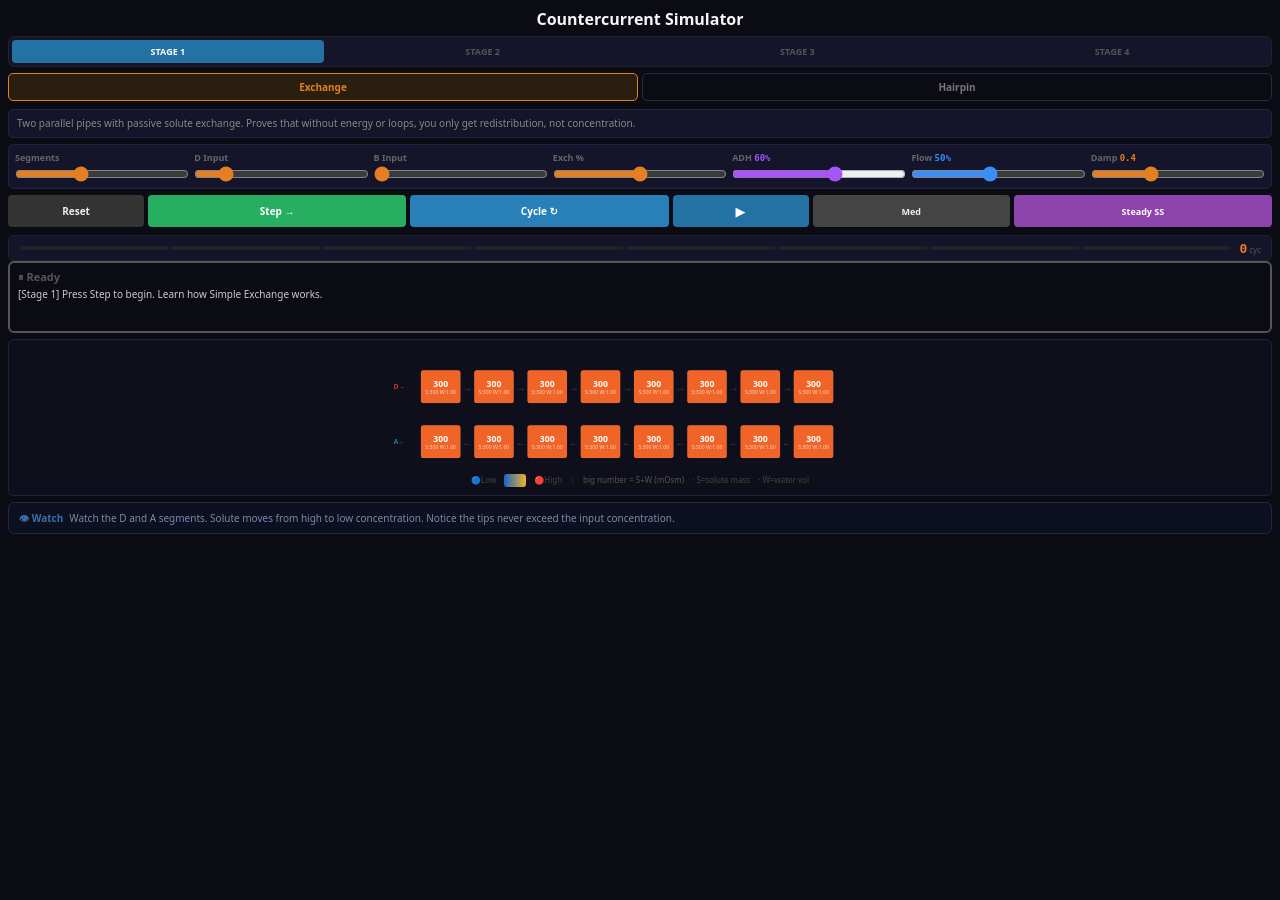
Test: App › switching scenario resets state
Click the button "Step →" at (277, 211), box [148,195,406,227]
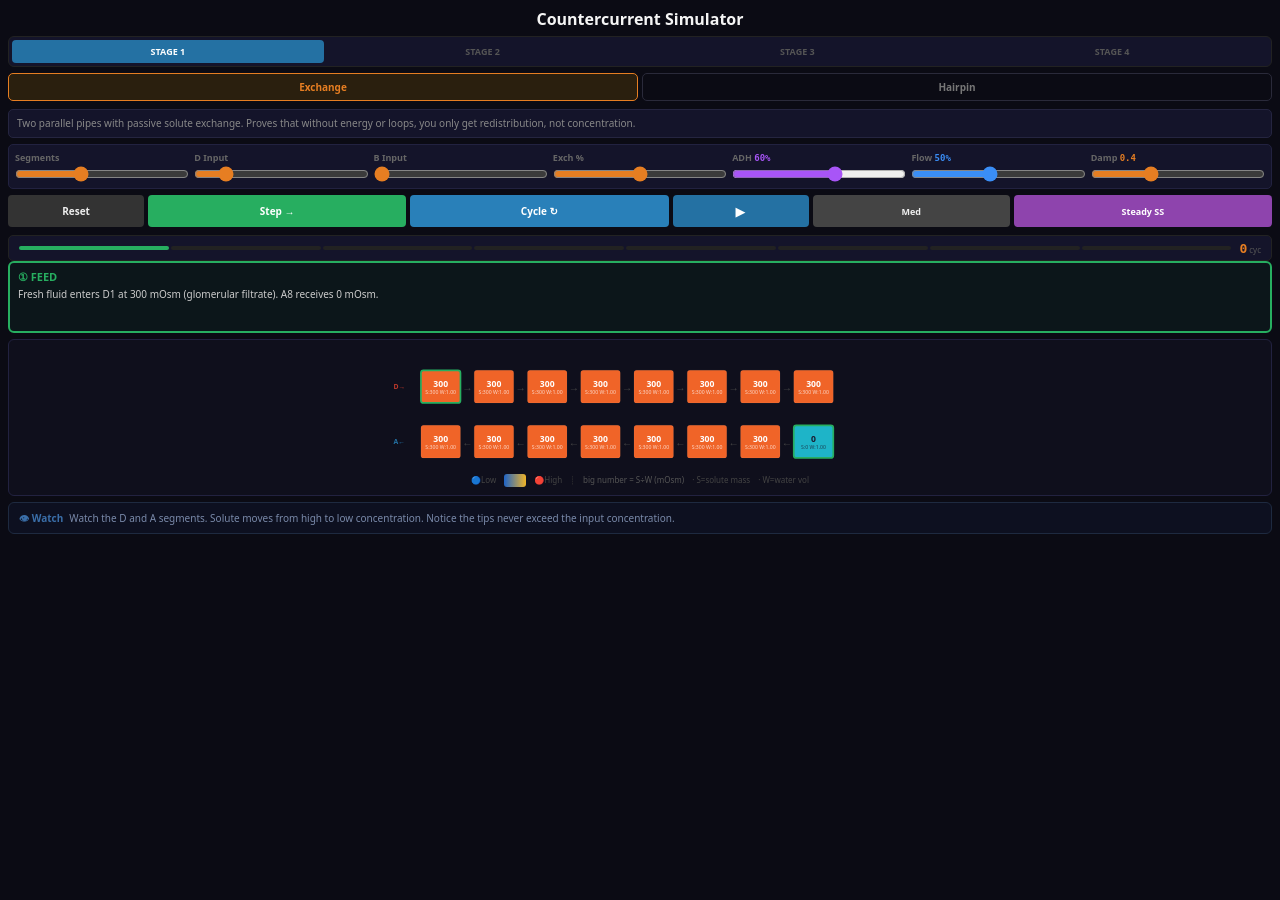
Check: the text "①" is shown, box [18,269,28,284]
Click the button "Hairpin" at (957, 87), box [642,73,1272,101]
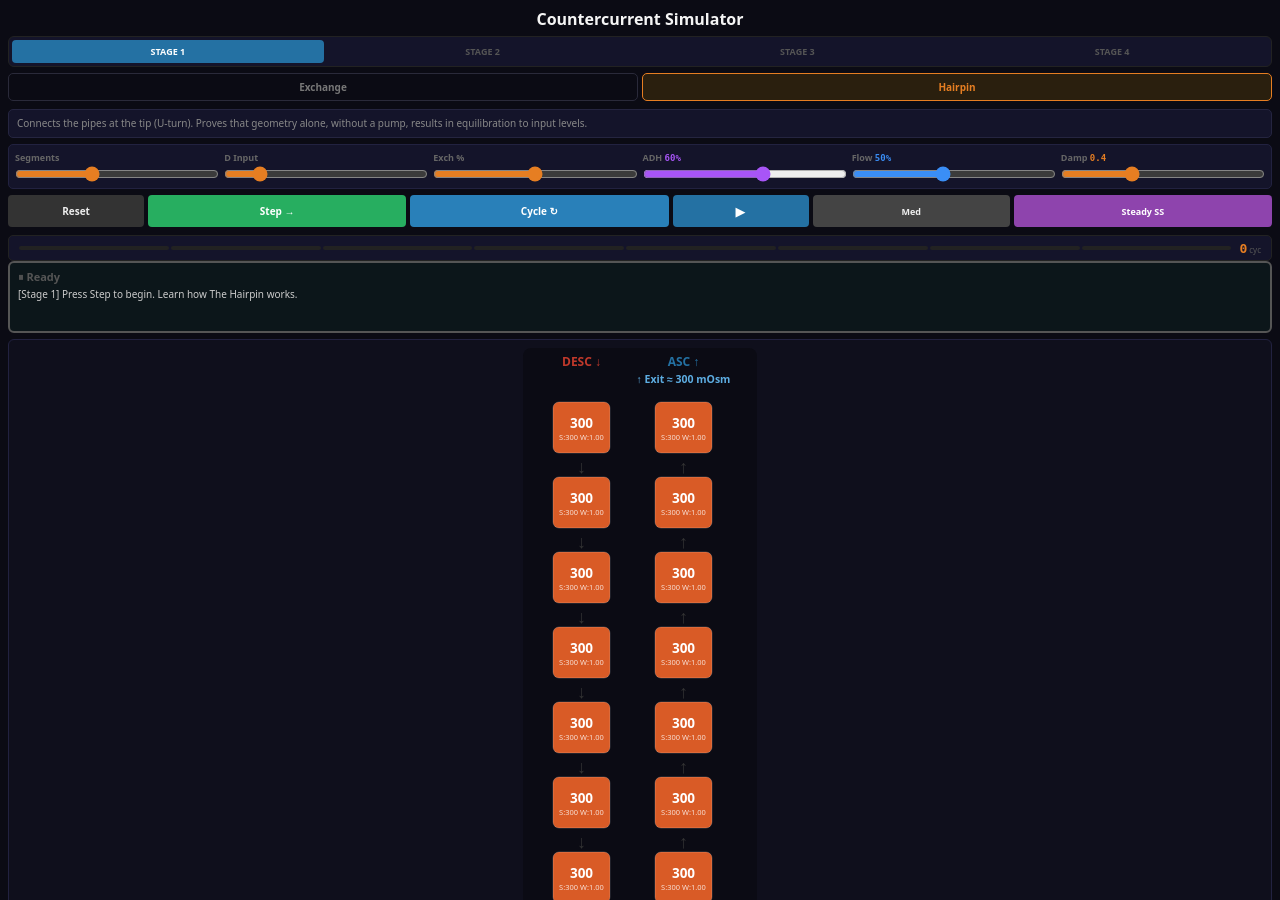
Check: the text "⏸" is shown, box [18,269,24,284]
